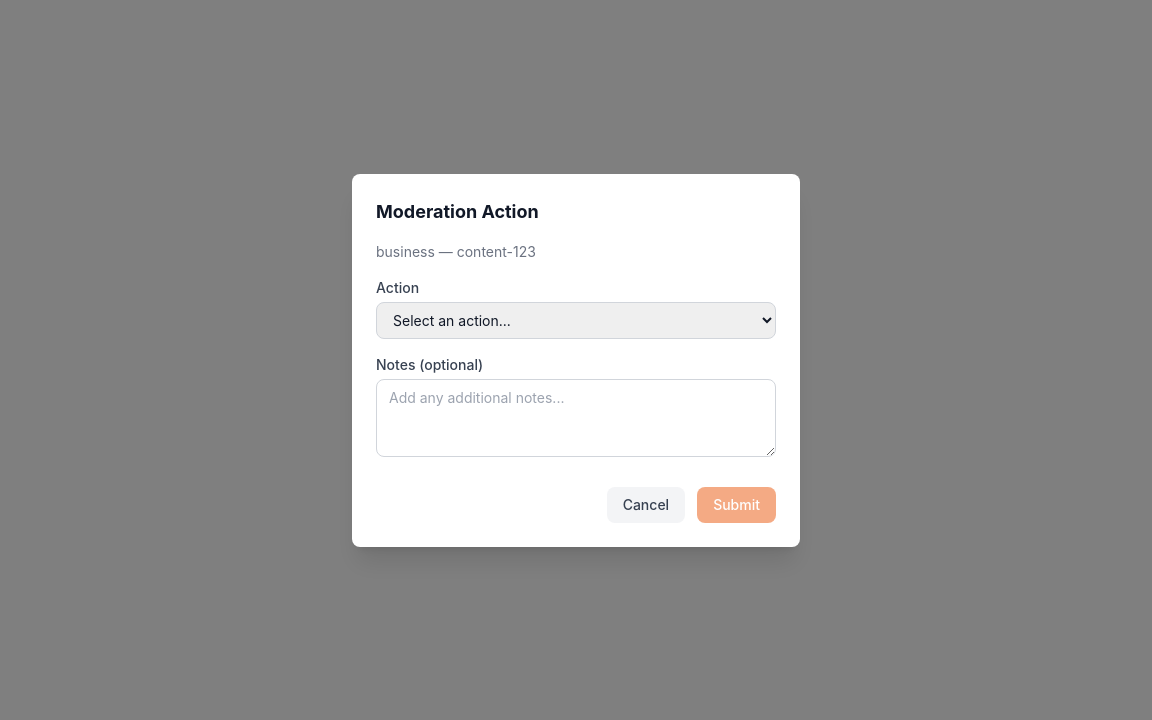
Test: ModerationActionModal › shows reason dropdown when reject is selected
Select "Reject" in the dropdown labelled "Action" at [576, 320], box [376,302,776,338]
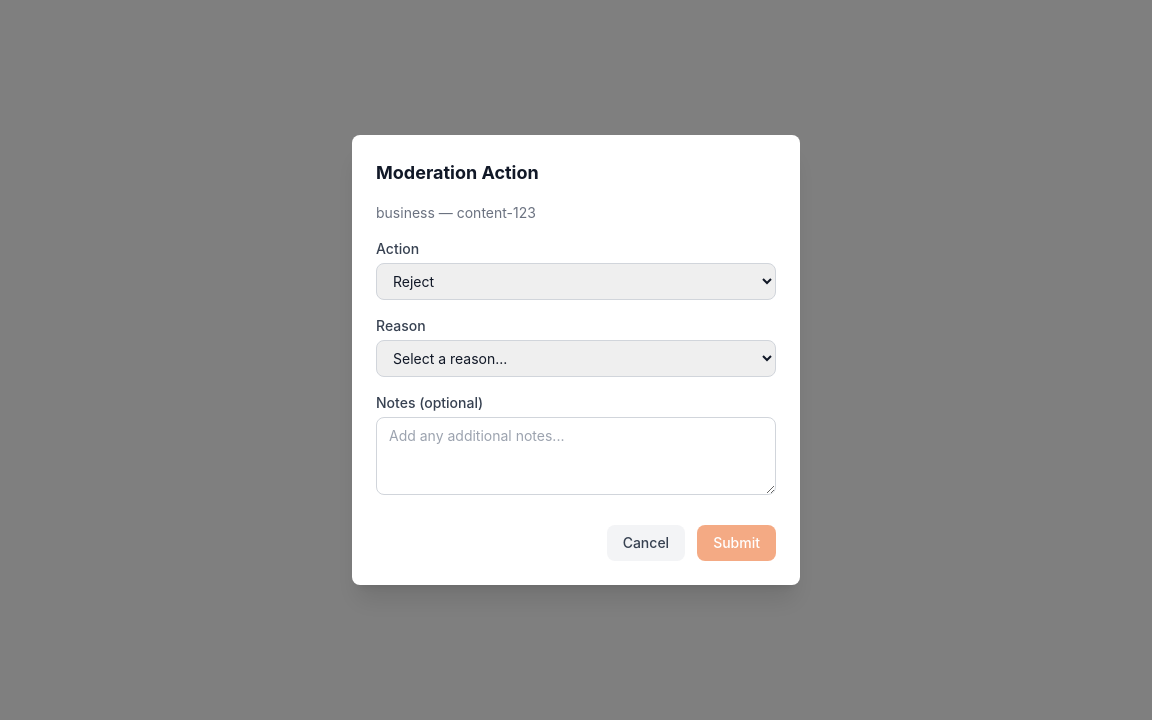
Now the dropdown labelled "Reason" is shown, box [376,340,776,377]
